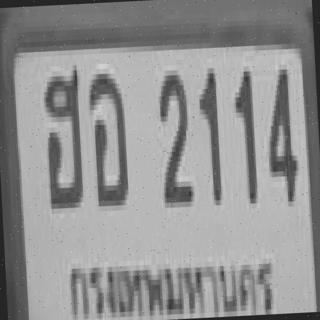A43: (86, 66, 127, 199)
A44: (40, 60, 84, 204)
N01: (196, 60, 220, 198), (232, 66, 256, 199)
N02: (156, 64, 192, 203)
N04: (262, 62, 298, 200)
P04: (64, 245, 279, 320)
